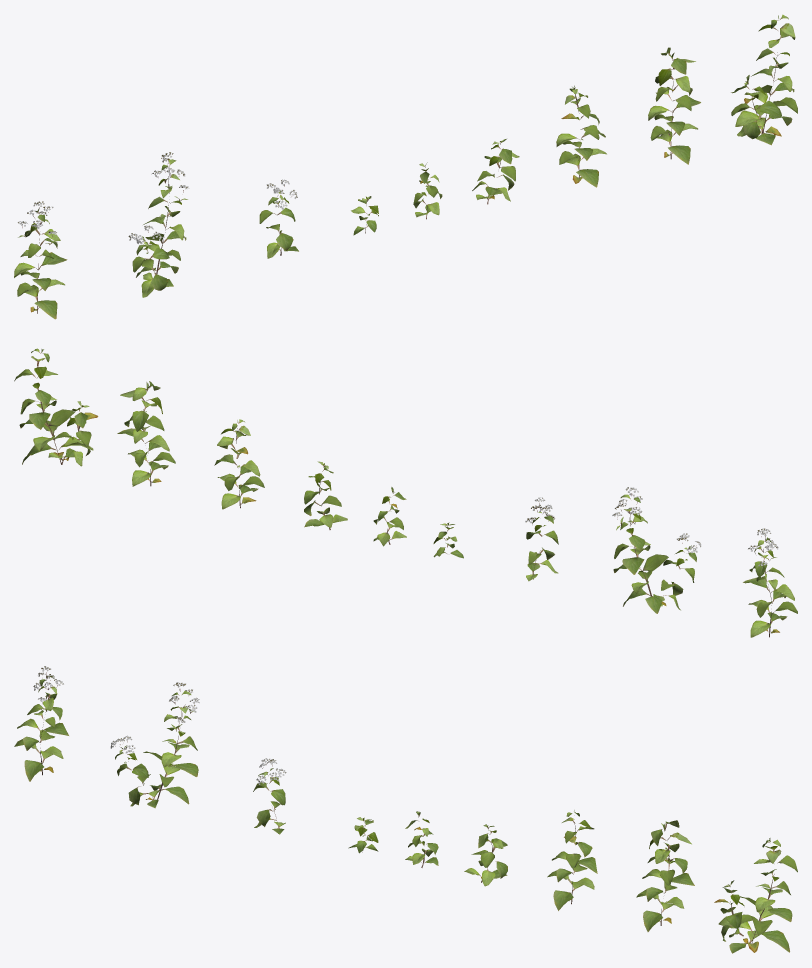
Rendered from shrub_01.glb.
3 views of the same model, one above another, from view 1: azimuth 30°, elevation 25°; view 2: azimuth 150°, elevation 25°; view 3: azimuth 330°, elevation 25° (orthographic). The views are drawn at different scales.
Visible parts, largest first — view 1: shrub_01_a; view 2: shrub_01_a; view 3: shrub_01_a.
Boxes of the visible parts, x1,y1,x2,y2 form: shrub_01_a: (14, 14, 797, 319); shrub_01_a: (14, 348, 797, 637); shrub_01_a: (14, 666, 797, 953).
Bounding box in the file's own units: 2.59 × 0.3956 × 0.2181.
1 material, 1 textured.
